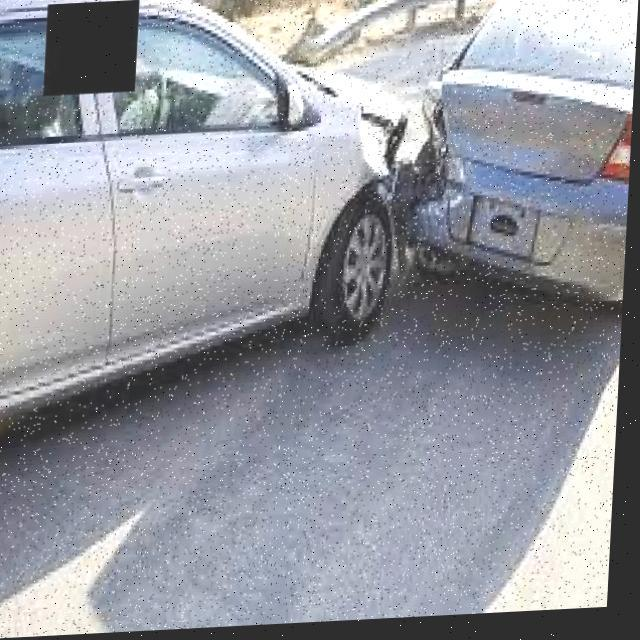multiple_accident: (255, 23, 585, 348)
